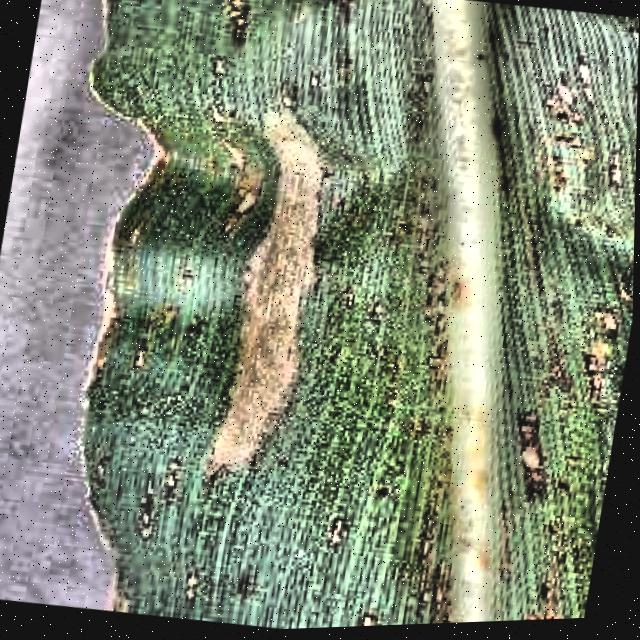blight: (30, 0, 640, 638)
